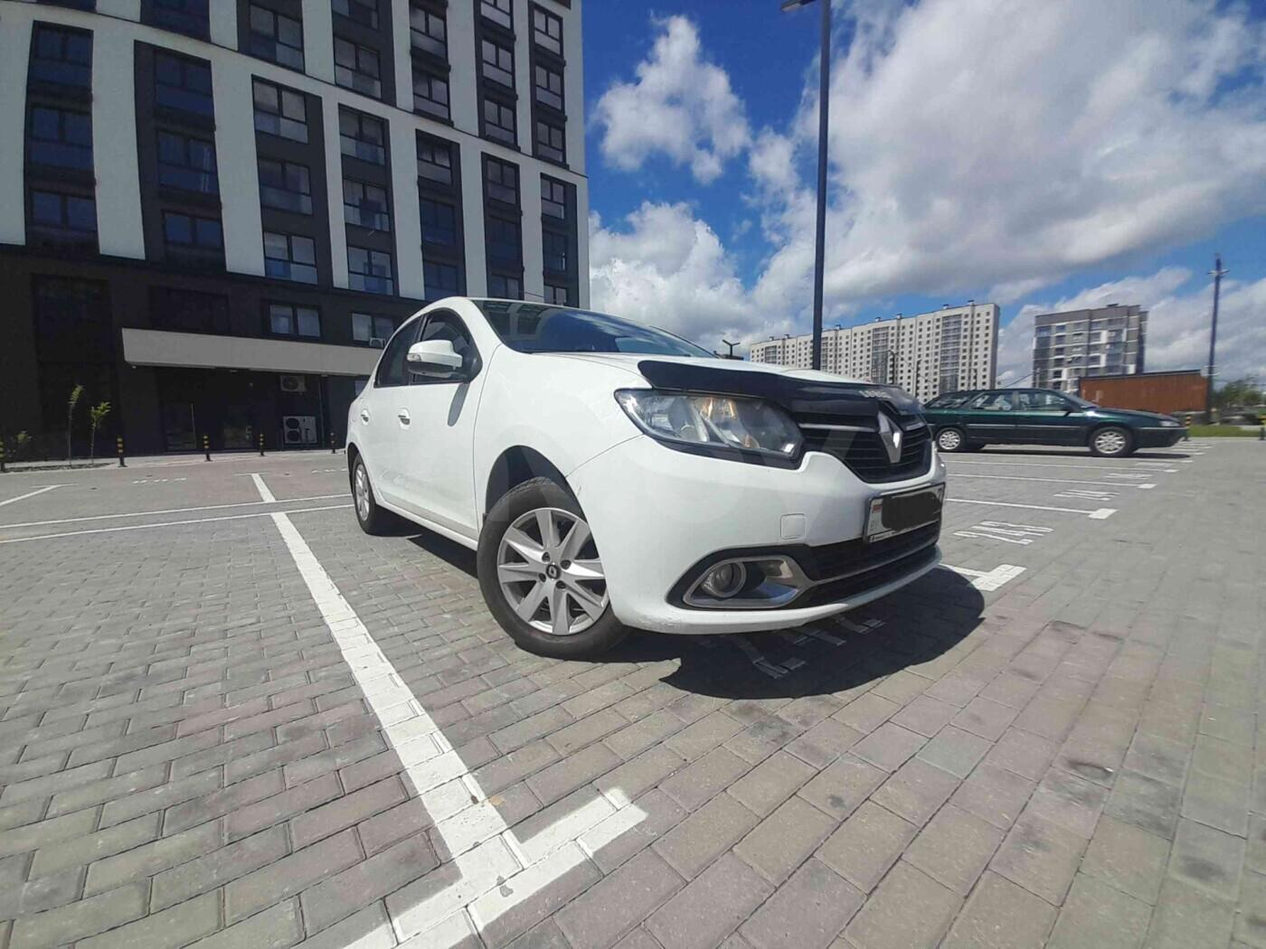Logan_2013-2018: (337, 293, 950, 662)
